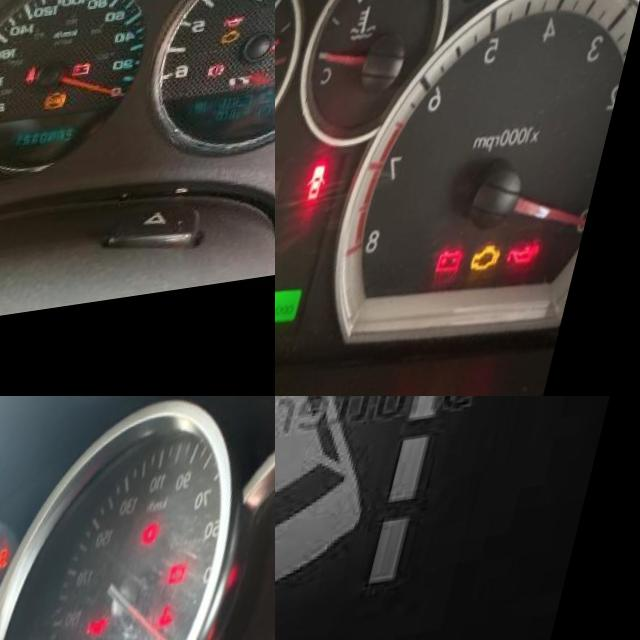High Engine Coolant Temperature: (166, 611, 192, 640)
Seat Belt: (37, 70, 51, 88)
